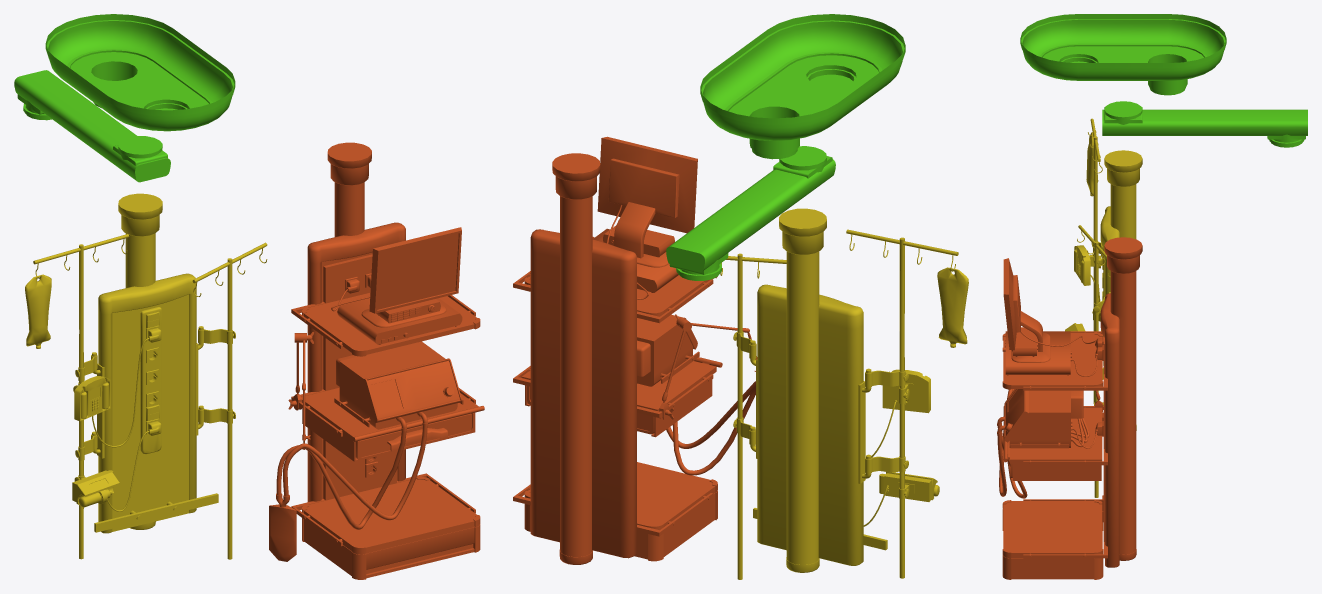
File: Arms.fbx
The picture shows the model from 3 angles, left to right: view 1: azimuth 30°, elevation 25°; view 2: azimuth 150°, elevation 25°; view 3: azimuth 270°, elevation 25°; orthographic projection. The views are drawn at different scales.
Visible parts, largest first — view 1: Arm_1_2, Aem_1_3, Arm_1, Arm_1_1, Aerm_1_3_1, Arm_1_3_2, Arm_1_3_4, Arm_1_3_3, Arm_1_3_5; view 2: Arm_1_2, Aem_1_3, Arm_1, Arm_1_1, Arm_1_3_2, Aerm_1_3_1, Arm_1_3_5, Arm_1_3_4, Arm_1_3_3; view 3: Arm_1_2, Arm_1, Arm_1_1, Aem_1_3, Arm_1_3_2, Aerm_1_3_1, Arm_1_3_4, Arm_1_3_5.
Boxes of the visible parts, x1,y1,x2,y2 form: Arm_1_2: [269, 142, 484, 579]; Aem_1_3: [92, 193, 218, 533]; Arm_1: [45, 14, 235, 131]; Arm_1_1: [14, 70, 170, 182]; Aerm_1_3_1: [192, 242, 267, 559]; Arm_1_3_2: [33, 234, 129, 559]; Arm_1_3_4: [73, 328, 161, 447]; Arm_1_3_3: [72, 421, 161, 511]; Arm_1_3_5: [25, 274, 51, 348]; Arm_1_2: [513, 136, 755, 564]; Aem_1_3: [750, 208, 887, 572]; Arm_1: [700, 14, 905, 159]; Arm_1_1: [666, 146, 835, 280]; Arm_1_3_2: [846, 229, 958, 578]; Aerm_1_3_1: [720, 253, 786, 579]; Arm_1_3_5: [937, 267, 968, 347]; Arm_1_3_4: [871, 369, 930, 457]; Arm_1_3_3: [863, 472, 939, 526]; Arm_1_2: [997, 237, 1142, 579]; Arm_1: [1020, 14, 1226, 95]; Arm_1_1: [1102, 101, 1307, 147]; Aem_1_3: [1094, 150, 1142, 430]; Arm_1_3_2: [1088, 118, 1102, 403]; Aerm_1_3_1: [1077, 225, 1110, 497]; Arm_1_3_4: [1074, 245, 1102, 316]; Arm_1_3_5: [1086, 132, 1098, 196].
Size of the model in its own units: 197 by 231 by 151.
